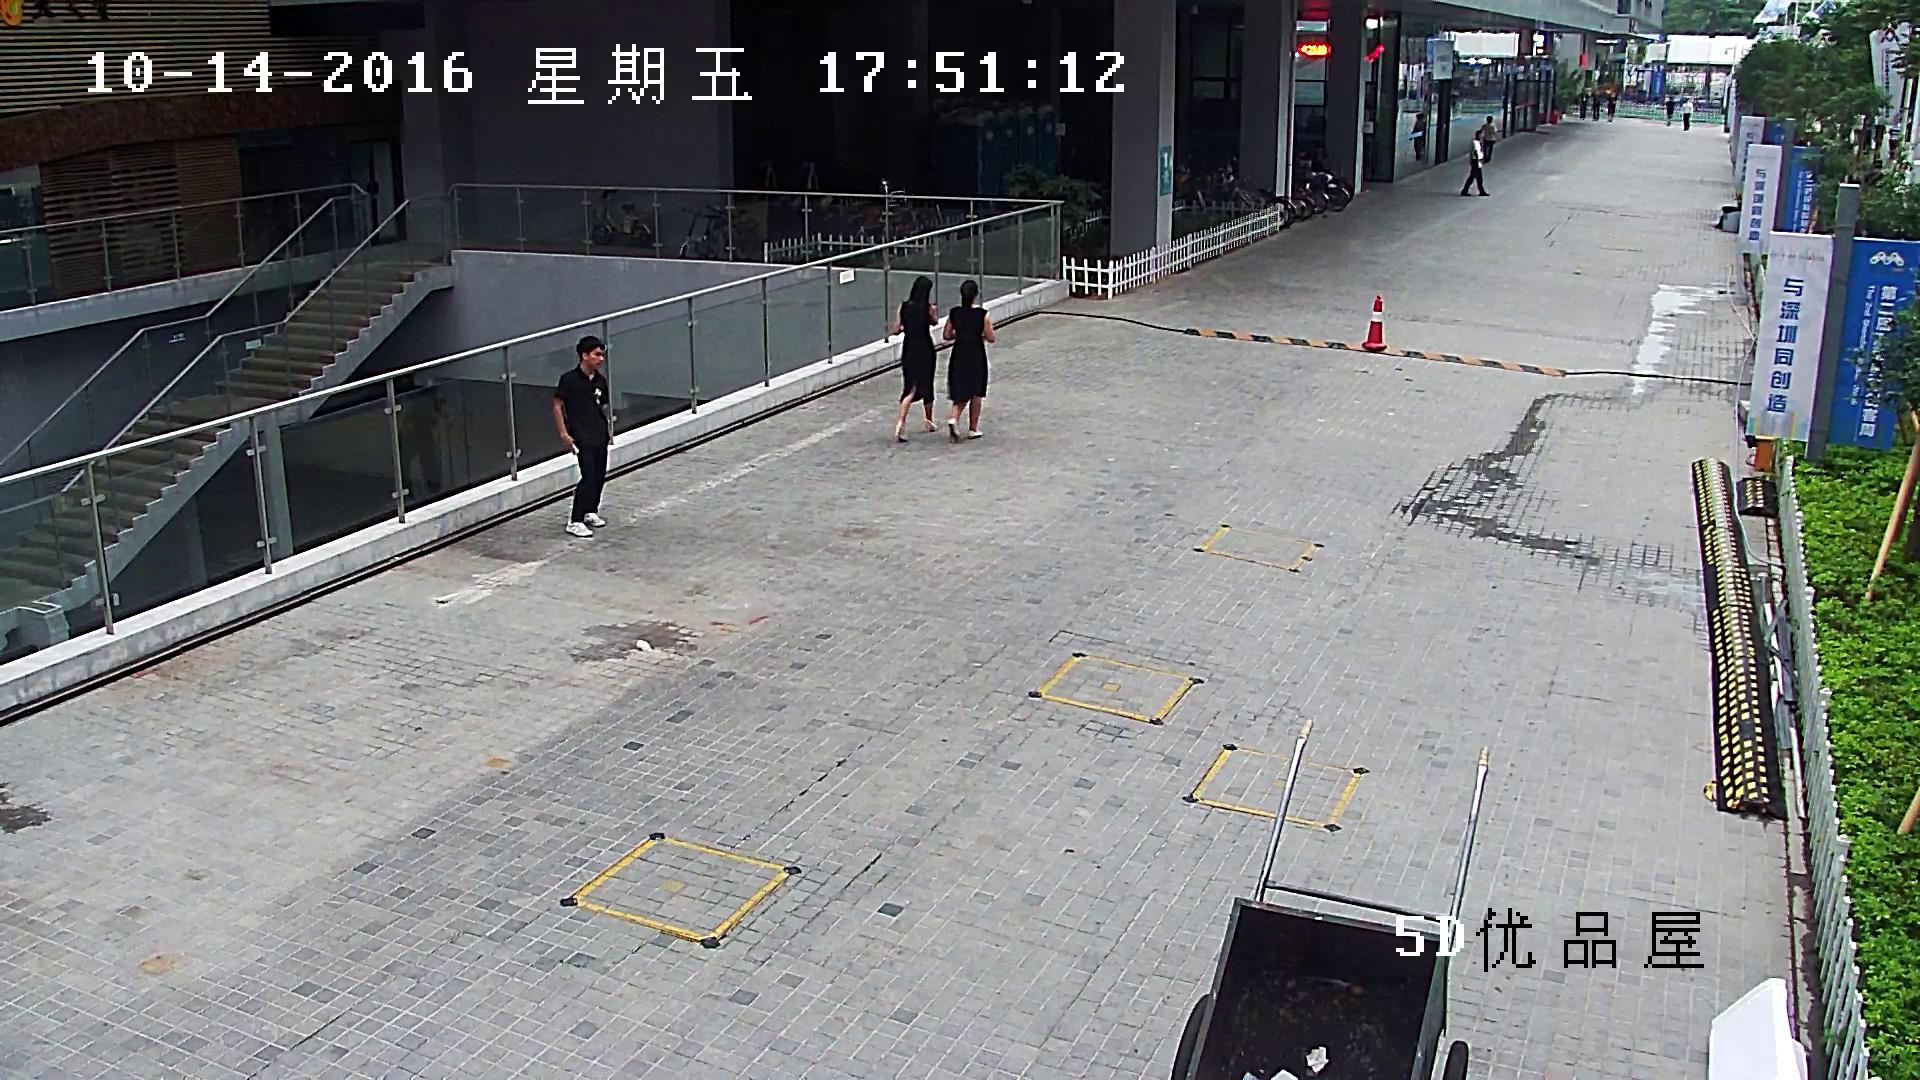person: (553, 335, 613, 536), (943, 280, 995, 439), (892, 275, 937, 441), (1460, 129, 1489, 195), (1481, 115, 1496, 164), (1409, 114, 1423, 160), (1604, 85, 1616, 121), (1576, 87, 1588, 119), (1590, 84, 1601, 120), (1666, 94, 1676, 126), (1682, 97, 1693, 130)
